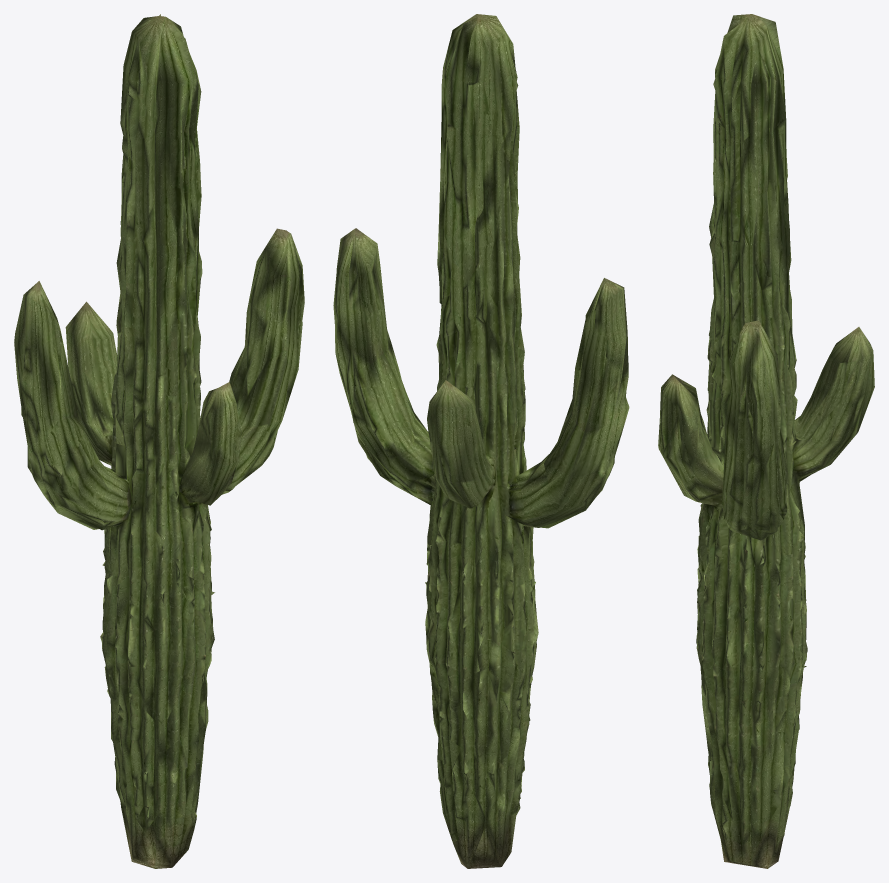
Rendered from desert-tree.glb.
3 views of the same model, side by side, from view 1: azimuth 30°, elevation 25°; view 2: azimuth 150°, elevation 25°; view 3: azimuth 270°, elevation 25° (orthographic).
Bounding box in the file's own units: 0.6762 × 1.9 × 0.4397.
Materials: 1 (1 with a texture image).
